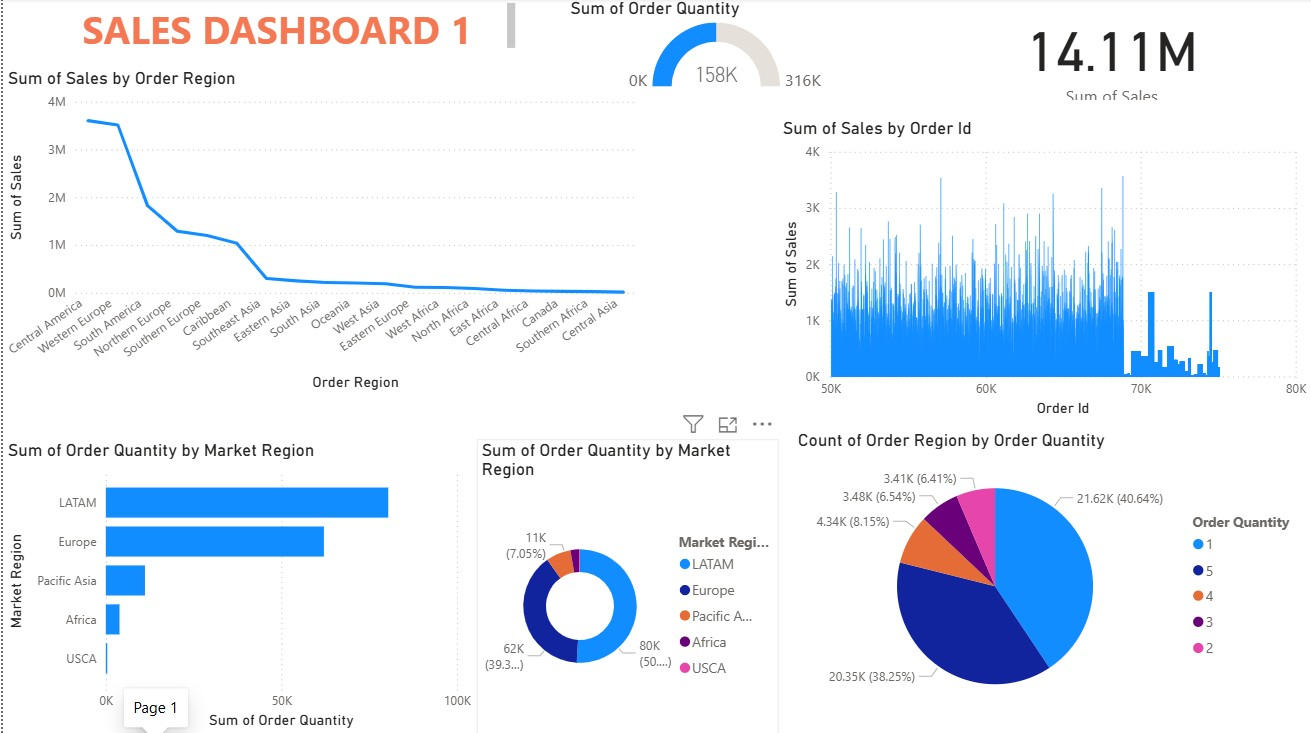

The dashboard page shown, as its layout file describes it:
{"tool":"powerbi","page":{"name":"Page 1","canvas":[1280,720],"ordinal":0},"visuals":[{"type":"lineChart","fields":{"Category":["Sales Data.Order Region"],"Y":["Sum(Sales Data.Sales)"]},"box":[0,68.8,623.7,320.9],"z":0},{"type":"barChart","fields":{"Category":["Sales Data.Market Region"],"Y":["Sum(Sales Data.Order Quantity)"]},"box":[0,431.9,463.3,288.3],"z":1000},{"type":"pieChart","fields":{"Category":["Sales Data.Order Quantity"],"Y":["CountNonNull(Sales Data.Order Region)"]},"box":[773.3,422.3,506.7,288.3],"z":2000},{"type":"textbox","box":[37.4,0,468.1,56.7],"z":3000},{"type":"ribbonChart","fields":{"Category":["Sales Data.Order Id"],"Y":["Sum(Sales Data.Sales)"]},"box":[757.6,117,522.4,296.8],"z":4000},{"type":"gauge","fields":{"Y":["Sum(Sales Data.Order Quantity)"]},"box":[550.1,0,312.5,96.5],"z":5000},{"type":"card","fields":{"Values":["Sum(Sales Data.Sales)"]},"box":[926.5,8.4,316.1,96.5],"z":6000},{"type":"donutChart","fields":{"Category":["Sales Data.Market Region"],"Y":["Sum(Sales Data.Order Quantity)"]},"box":[463.3,431.9,294.4,288.3],"z":7000}]}

Visuals, with their boxes in screenshot pixels (x1, y1, x2, y2), scaled from the page's 1280x720 canvas onto the 1311x733 screenshot:
lineChart - Sales Data.Order Region x Sum(Sales Data.Sales): bbox=(0, 70, 639, 397)
barChart - Sales Data.Market Region x Sum(Sales Data.Order Quantity): bbox=(0, 440, 475, 732)
pieChart - Sales Data.Order Quantity x CountNonNull(Sales Data.Order Region): bbox=(792, 430, 1310, 723)
textbox: bbox=(38, 0, 518, 58)
ribbonChart - Sales Data.Order Id x Sum(Sales Data.Sales): bbox=(776, 119, 1310, 421)
gauge - Sum(Sales Data.Order Quantity): bbox=(563, 0, 883, 98)
card - Sum(Sales Data.Sales): bbox=(949, 9, 1273, 107)
donutChart - Sales Data.Market Region x Sum(Sales Data.Order Quantity): bbox=(475, 440, 776, 732)
